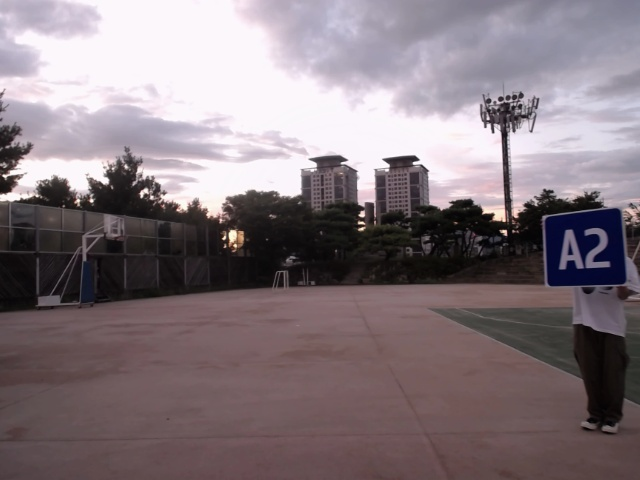delivery_a2: (544, 207, 628, 287)
